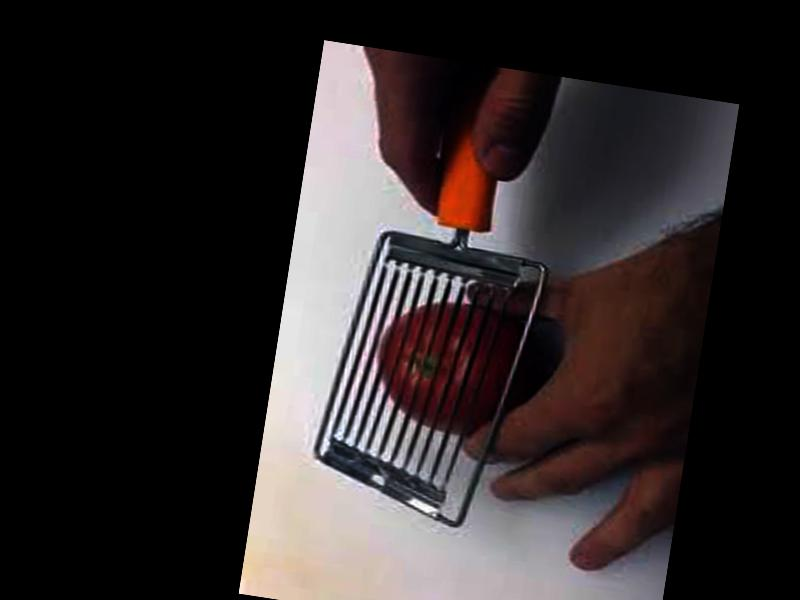Tomato: (370, 289, 547, 441)
